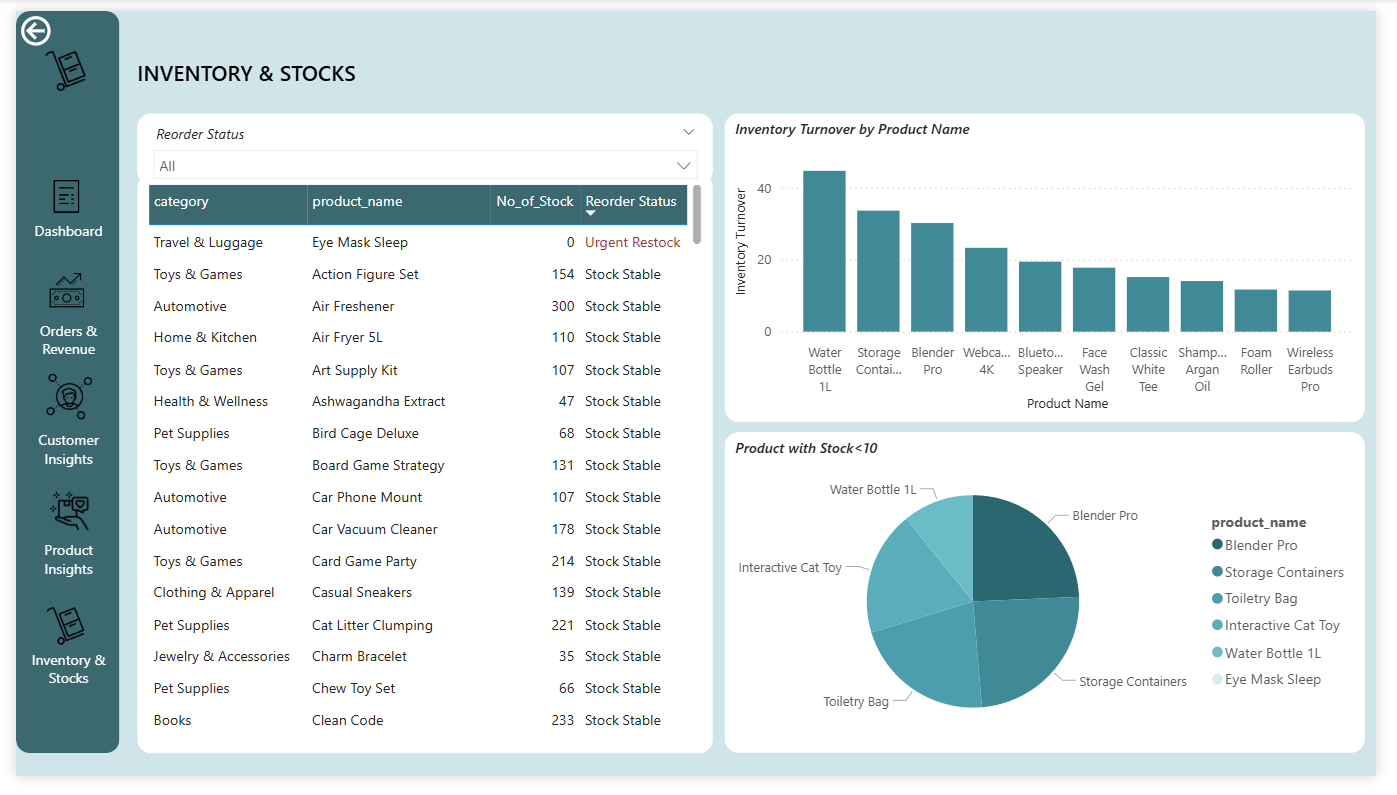

The dashboard page shown, as its layout file describes it:
{"tool":"powerbi","page":{"name":"Inventory & Stocks","canvas":[1280,720],"ordinal":4},"visuals":[{"type":"clusteredColumnChart","title":"Inventory Turnover by Product Name","fields":{"Category":["product_summary.product_name"],"Y":["product_summary.Inventory Turnover"]},"box":[667.2,96.5,602,290.8],"z":0},{"type":"tableEx","fields":{"Values":["product_summary.category","product_summary.product_name","product_summary.No_of_Stock","product_summary.Reorder Status"]},"box":[114.6,153.2,541.7,545.3],"z":1000},{"type":"slicer","fields":{"Values":["product_summary.Reorder Status"]},"box":[114.6,96.5,541.7,67.6],"z":2000},{"type":"pieChart","title":"Product with Stock<10","fields":{"Y":["Sum(product_summary.No_of_Stock)"],"Category":["product_summary.product_name"]},"box":[667.2,396.9,602,301.6],"z":3000},{"type":"shape","box":[0,0,97.4,698.5],"z":4000},{"type":"pageNavigator","box":[10.9,158,78.4,510.3],"z":5000},{"type":"image","box":[8.4,158,78.4,33.8],"z":6000},{"type":"image","box":[9.7,241.3,77.2,43.4],"z":7000},{"type":"image","box":[10.9,337.8,78.4,50.7],"z":8000},{"type":"image","box":[12.1,448.8,77.2,44.6],"z":9000},{"type":"image","box":[8.4,561,77.2,35],"z":10000},{"type":"image","box":[7.2,37.4,79.6,37.4],"z":11000},{"type":"shape","box":[114.6,27.7,359.5,57.9],"z":12000},{"type":"actionButton","box":[0,0,100.1,37.4],"z":13000}]}

Visuals, with their boxes on the page's 1280x720 design canvas (x1, y1, x2, y2). These are canvas units, not pixel positions in the 1397x795 screenshot, which may show the page scaled, cropped or inside an application window:
"Inventory Turnover by Product Name" clusteredColumnChart: [667,96,1269,387]
tableEx - product_summary.category x product_summary.product_name: [115,153,656,698]
slicer - product_summary.Reorder Status: [115,96,656,164]
"Product with Stock<10" pieChart: [667,397,1269,698]
shape: [0,0,97,698]
pageNavigator: [11,158,89,668]
image: [8,158,87,192]
image: [10,241,87,285]
image: [11,338,89,388]
image: [12,449,89,493]
image: [8,561,86,596]
image: [7,37,87,75]
shape: [115,28,474,86]
actionButton: [0,0,100,37]
